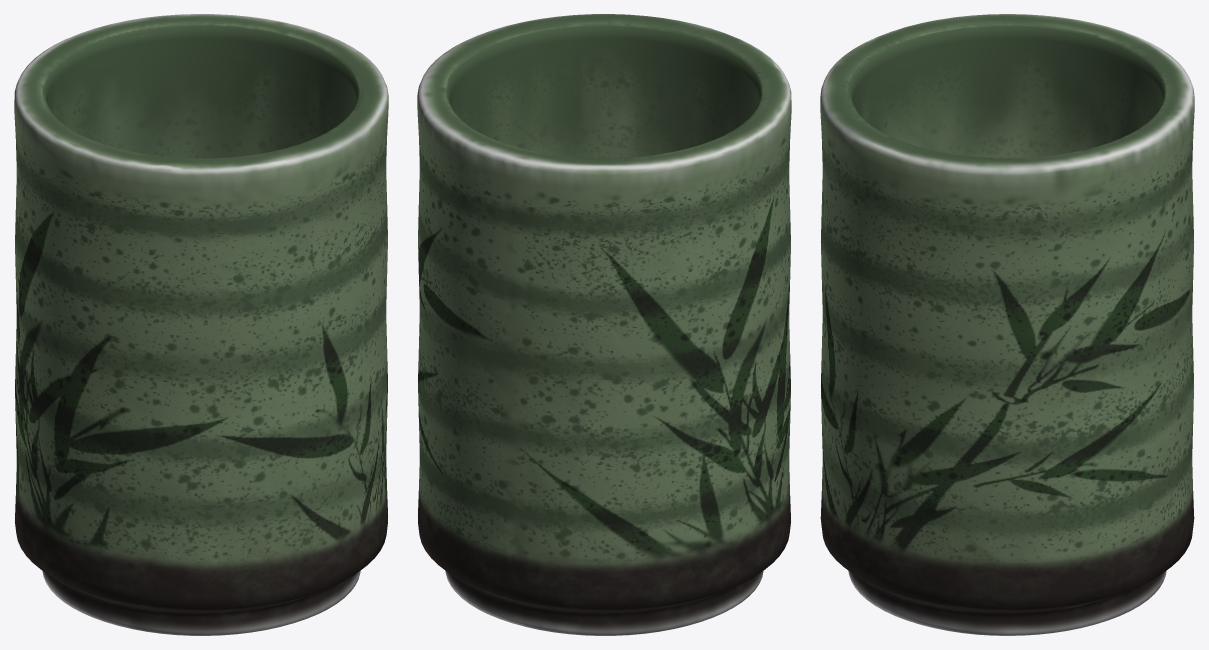
The model's file is japanese_tea_cup.glb.
3 views of the same model, side by side, from view 1: azimuth 30°, elevation 25°; view 2: azimuth 150°, elevation 25°; view 3: azimuth 270°, elevation 25° (orthographic).
Parts seen in each view (by area): view 1: Object_2; view 2: Object_2; view 3: Object_2.
Part boxes in pixels (box(x1,y1,x2,y2)): Object_2: box(14, 14, 388, 635); Object_2: box(417, 14, 791, 635); Object_2: box(820, 14, 1194, 635).
Bounding box in the file's own units: 0.1632 × 0.2313 × 0.1632.
Materials: 1 (1 with a texture image).
